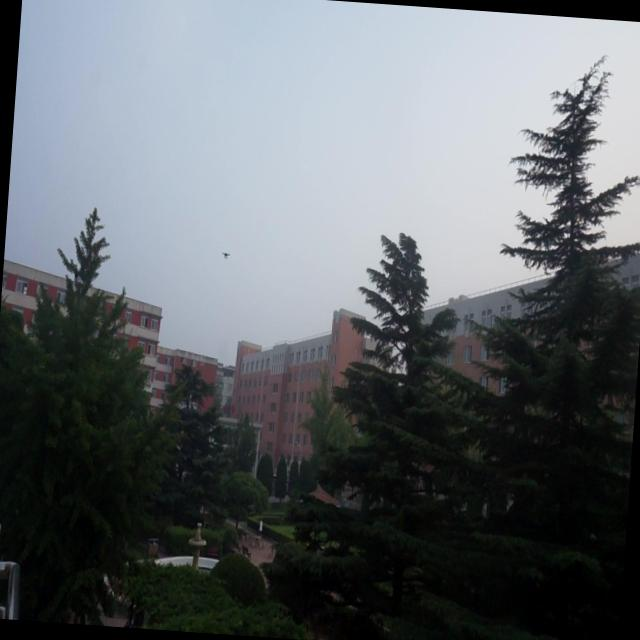drone: (218, 246, 234, 262)
